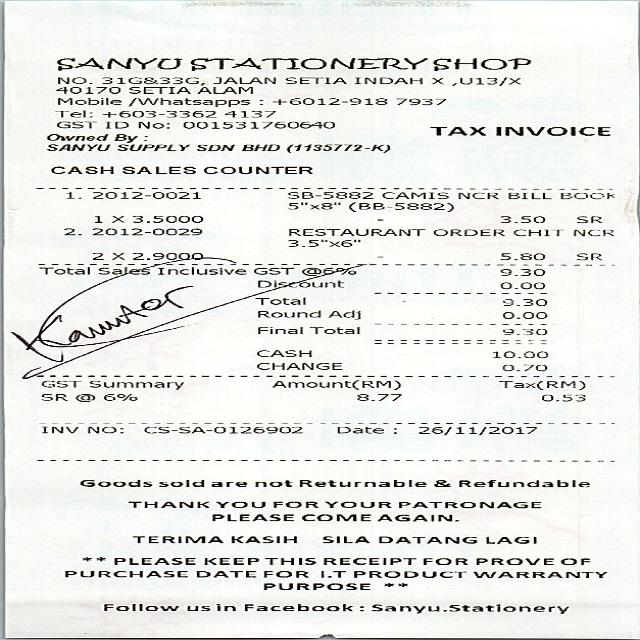text: (50, 56, 529, 70), (369, 603, 566, 613), (180, 119, 334, 129), (270, 378, 400, 389), (63, 189, 198, 199), (128, 96, 248, 106), (347, 201, 452, 212), (494, 125, 608, 135), (143, 426, 301, 433), (286, 228, 424, 236), (472, 570, 605, 578), (457, 479, 588, 487), (297, 478, 425, 486), (396, 501, 539, 508), (417, 426, 535, 434), (88, 379, 182, 389), (99, 76, 203, 85), (100, 109, 214, 117), (90, 252, 203, 260), (91, 227, 200, 235), (243, 602, 351, 610), (64, 570, 186, 577), (498, 379, 583, 389), (262, 582, 368, 590), (286, 144, 388, 152), (270, 97, 385, 104), (257, 326, 357, 334), (351, 570, 465, 577), (202, 166, 310, 173), (320, 556, 414, 564), (130, 535, 222, 543), (155, 266, 246, 274), (256, 280, 343, 288), (376, 536, 474, 543), (256, 361, 340, 369), (449, 76, 519, 85), (475, 557, 552, 565), (102, 602, 178, 610), (114, 143, 188, 151), (286, 191, 370, 198), (378, 190, 449, 198), (376, 514, 457, 521), (211, 514, 292, 521), (113, 557, 194, 564), (433, 228, 503, 236), (128, 500, 207, 507), (429, 125, 484, 135), (301, 266, 356, 276), (353, 76, 421, 84), (119, 166, 194, 173), (231, 535, 295, 543), (211, 76, 274, 84), (286, 239, 358, 246), (283, 76, 345, 84), (46, 143, 108, 151), (131, 215, 201, 222), (80, 479, 150, 486), (299, 514, 369, 521), (258, 310, 318, 318), (255, 296, 307, 305), (54, 86, 119, 93), (55, 97, 120, 104), (325, 500, 390, 507), (98, 266, 152, 274), (50, 166, 111, 173), (128, 86, 188, 93), (46, 133, 106, 140), (194, 570, 254, 577), (222, 109, 274, 117), (560, 190, 612, 198), (39, 266, 91, 274), (336, 426, 395, 433), (394, 97, 444, 105), (512, 228, 562, 236), (252, 266, 292, 276), (214, 500, 264, 508), (499, 328, 548, 336), (185, 602, 234, 610), (320, 535, 368, 543), (197, 86, 251, 93), (255, 349, 309, 356), (492, 351, 546, 358), (287, 202, 339, 209), (498, 215, 543, 223), (498, 252, 543, 260), (498, 268, 543, 276), (498, 281, 543, 289), (355, 392, 400, 400), (506, 190, 550, 198), (422, 557, 466, 565), (485, 536, 535, 543), (206, 557, 256, 564), (453, 190, 496, 198), (502, 311, 545, 319), (266, 557, 314, 564), (55, 120, 95, 128), (572, 228, 612, 236), (157, 479, 202, 486), (52, 109, 91, 117), (272, 500, 316, 507), (262, 570, 306, 577), (502, 298, 545, 305), (502, 364, 545, 371), (541, 394, 584, 401), (241, 143, 278, 151), (55, 76, 90, 84), (40, 380, 80, 387), (327, 310, 358, 319), (195, 144, 233, 151), (253, 479, 291, 486), (111, 132, 137, 142), (40, 426, 76, 433), (86, 426, 121, 433), (559, 557, 588, 565), (103, 393, 136, 400), (138, 120, 164, 128), (575, 215, 600, 223), (575, 252, 600, 260), (94, 215, 122, 222), (209, 481, 246, 486), (40, 393, 65, 400), (103, 121, 127, 128), (320, 570, 344, 577), (73, 394, 93, 402), (63, 227, 80, 235), (432, 478, 449, 486), (430, 77, 442, 84), (258, 99, 262, 104)
